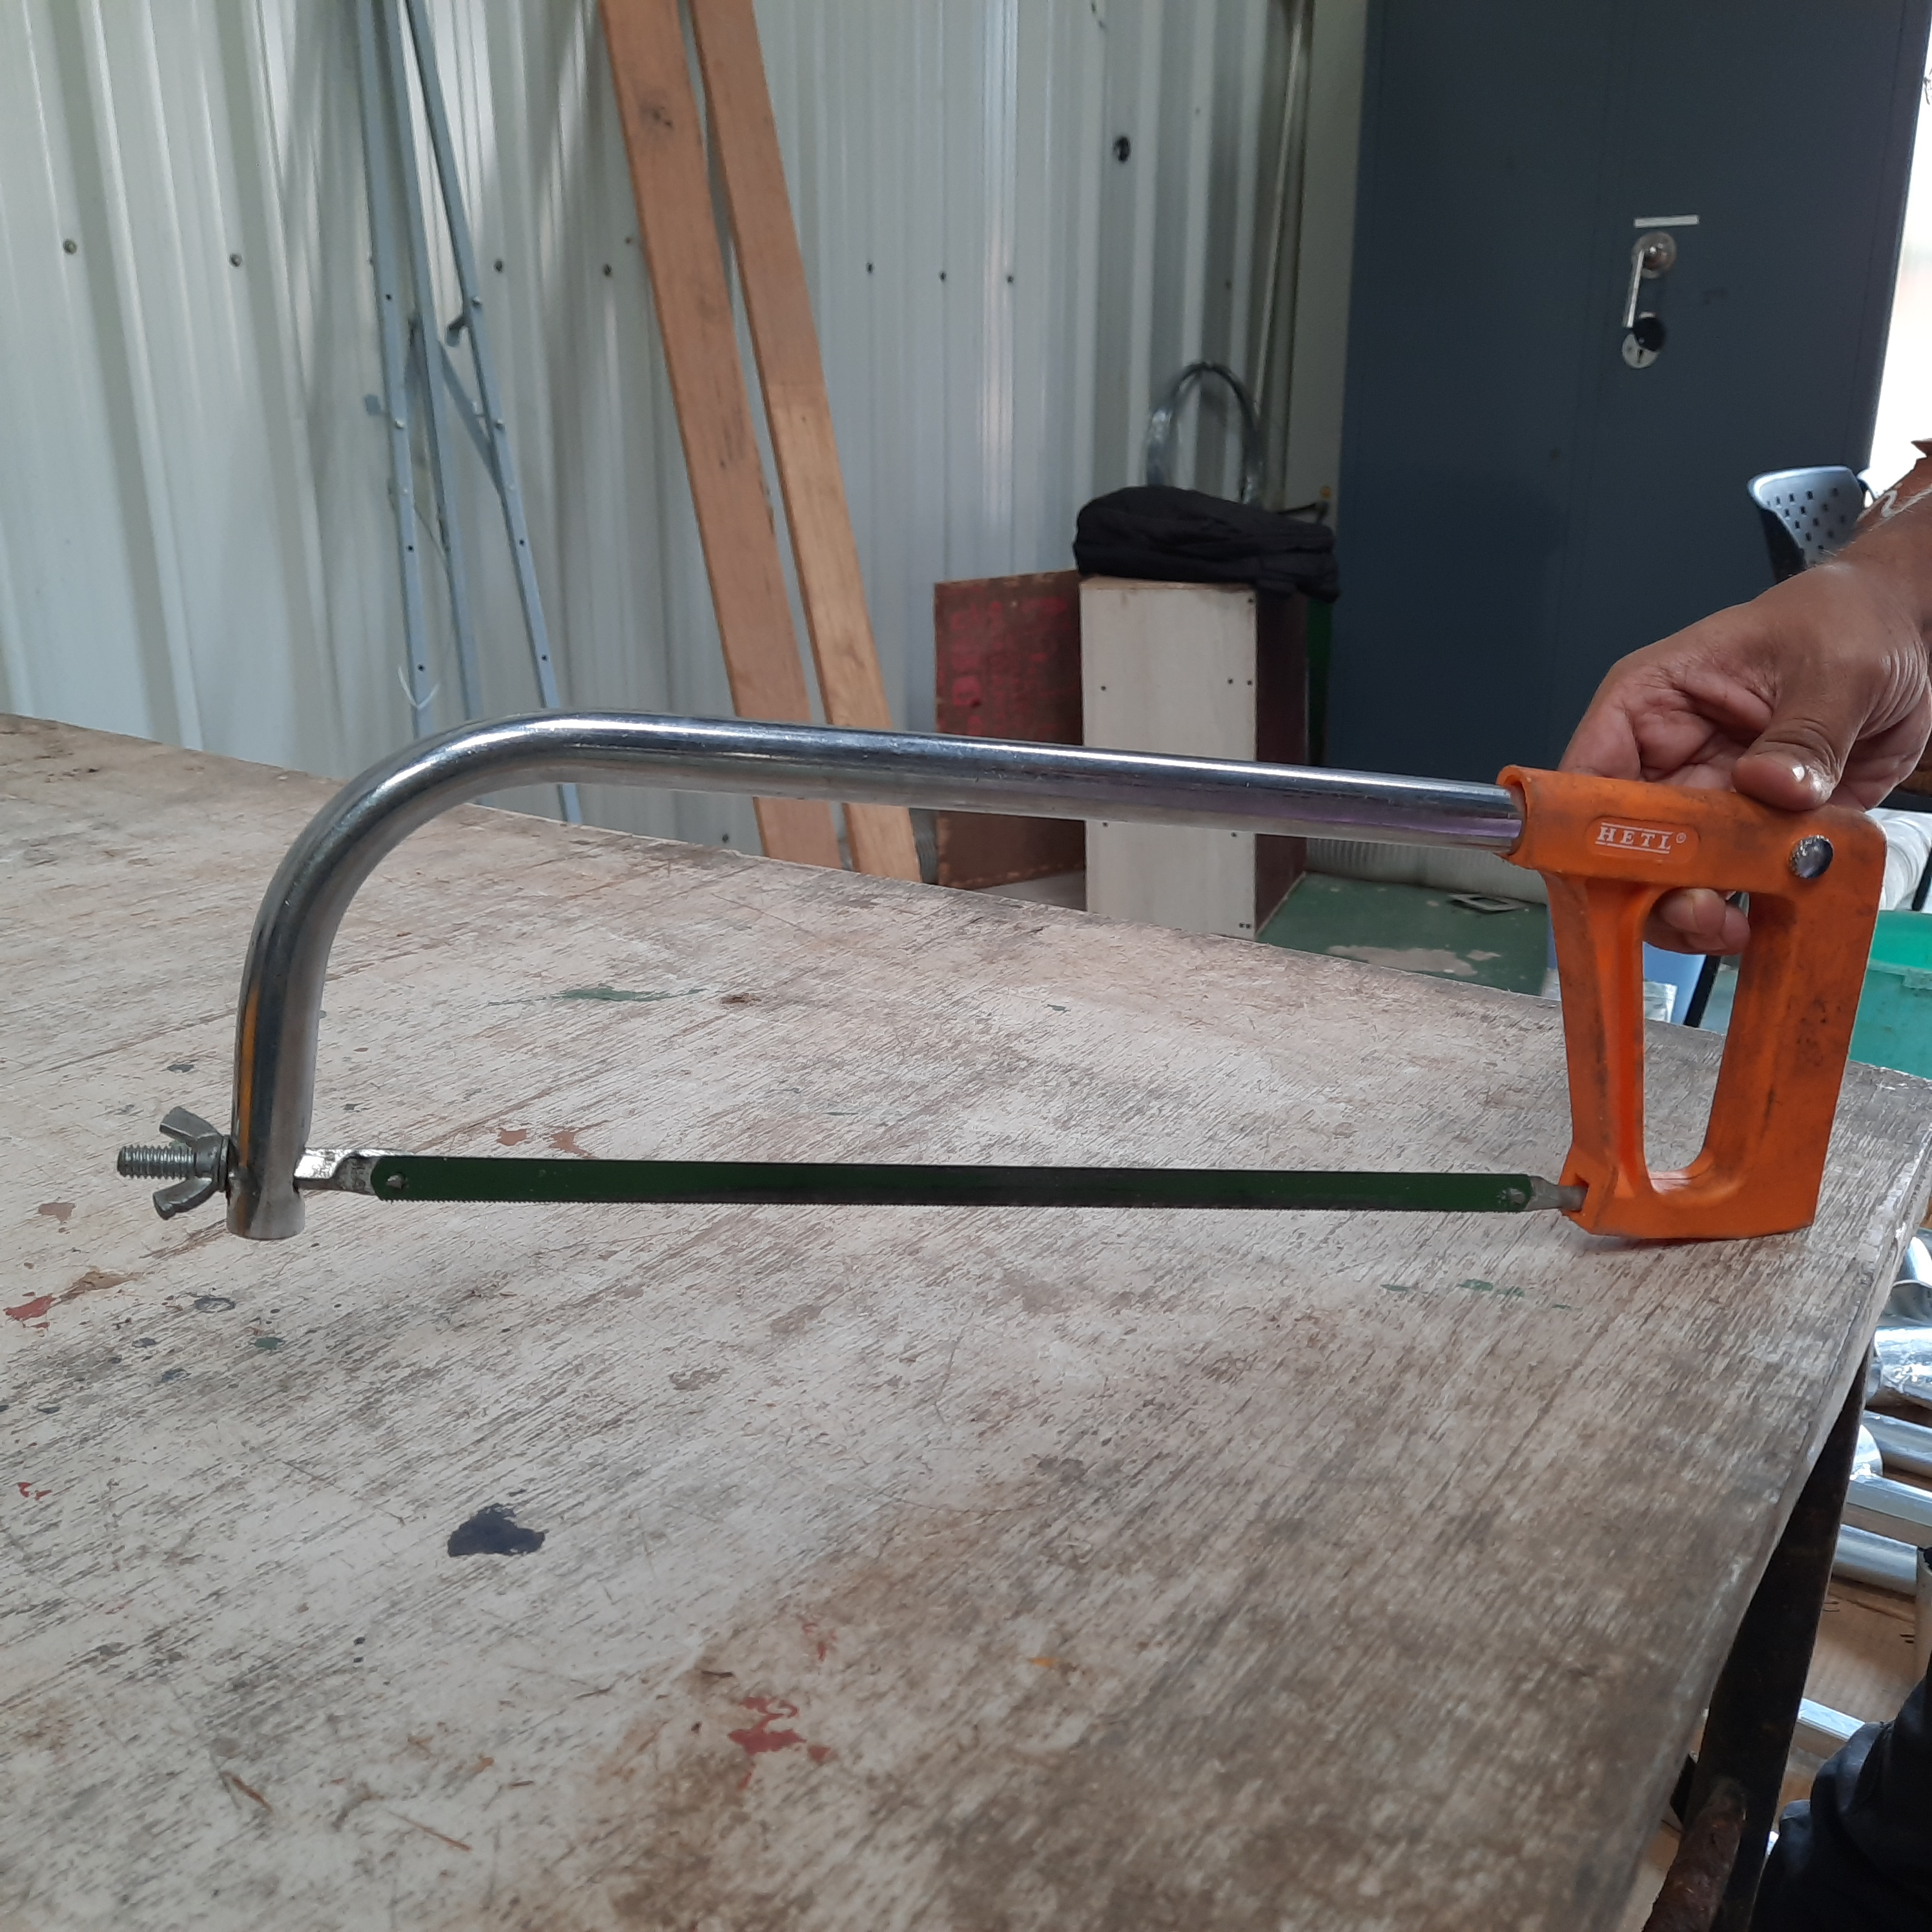Hexaframe: (115, 681, 1898, 1355)
